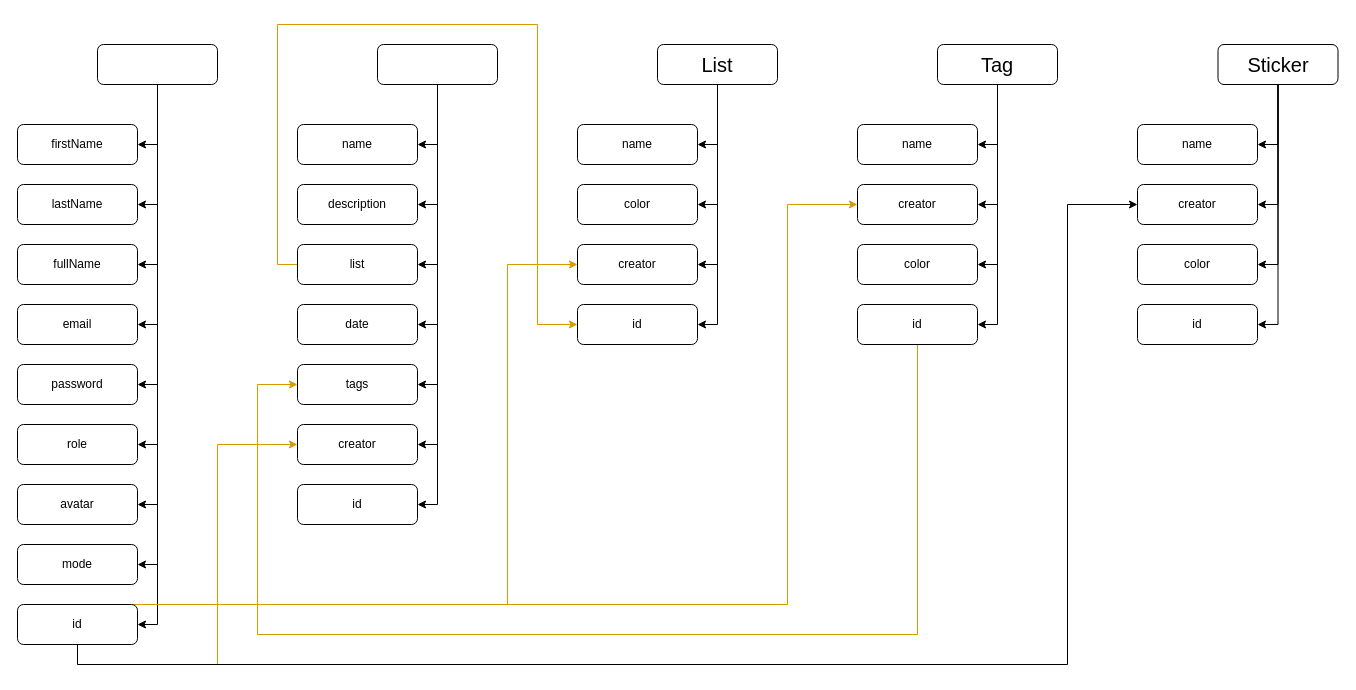
Image size: 1356x690. Some labels were removed from this diagram. Each missing label, with the centre of its shape:
"Task" goes at (x=437, y=64).
"User" goes at (x=157, y=64).
